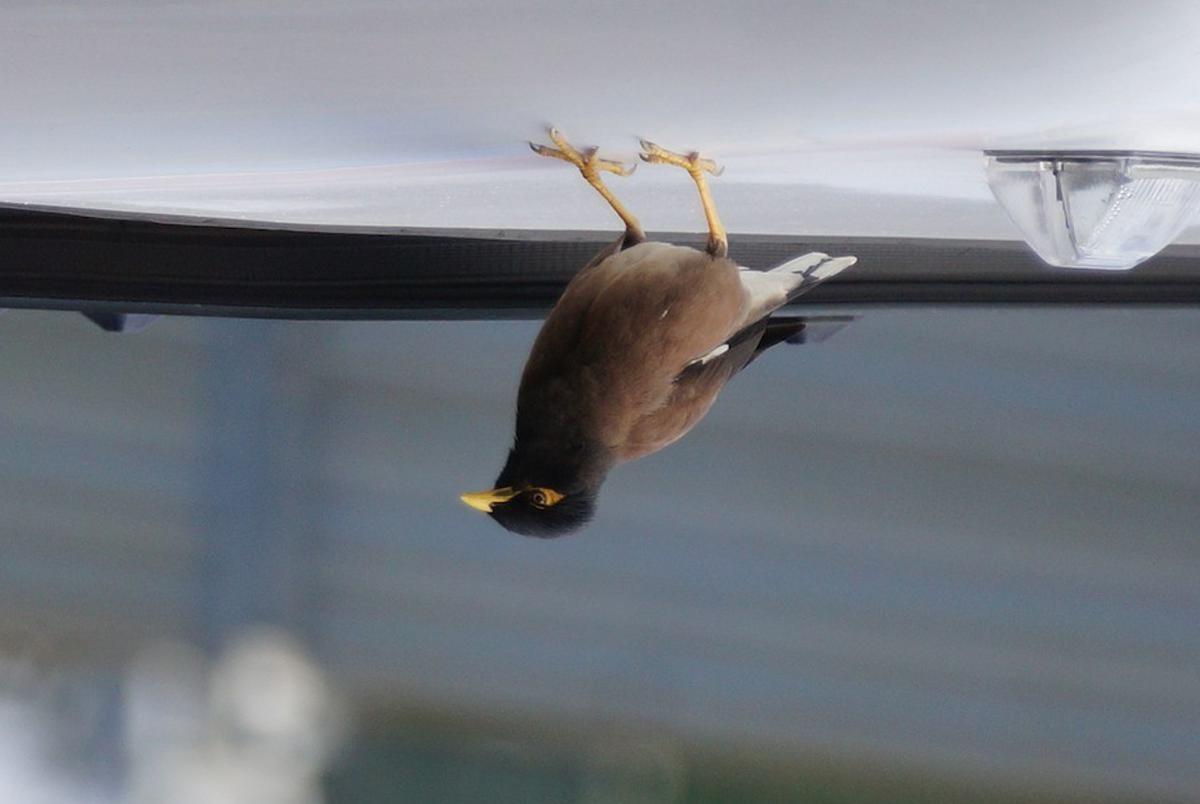myna: (406, 136, 874, 567)
